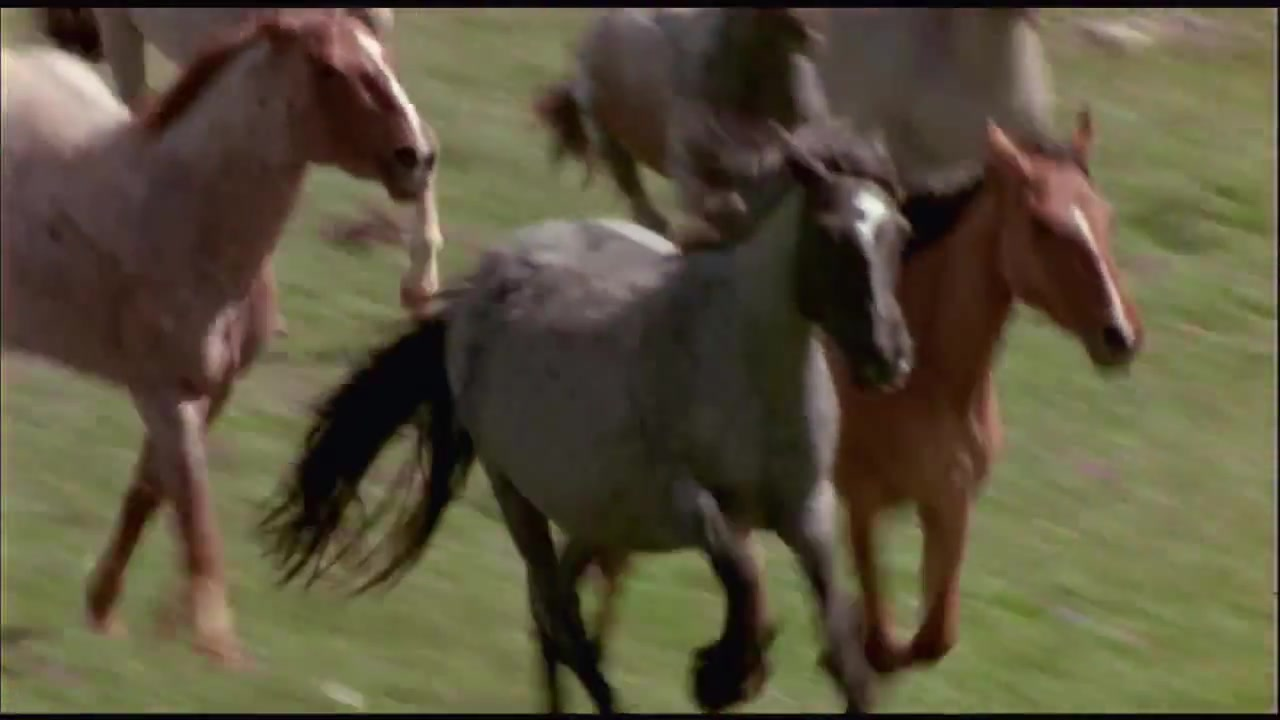horse: (251, 118, 918, 715)
